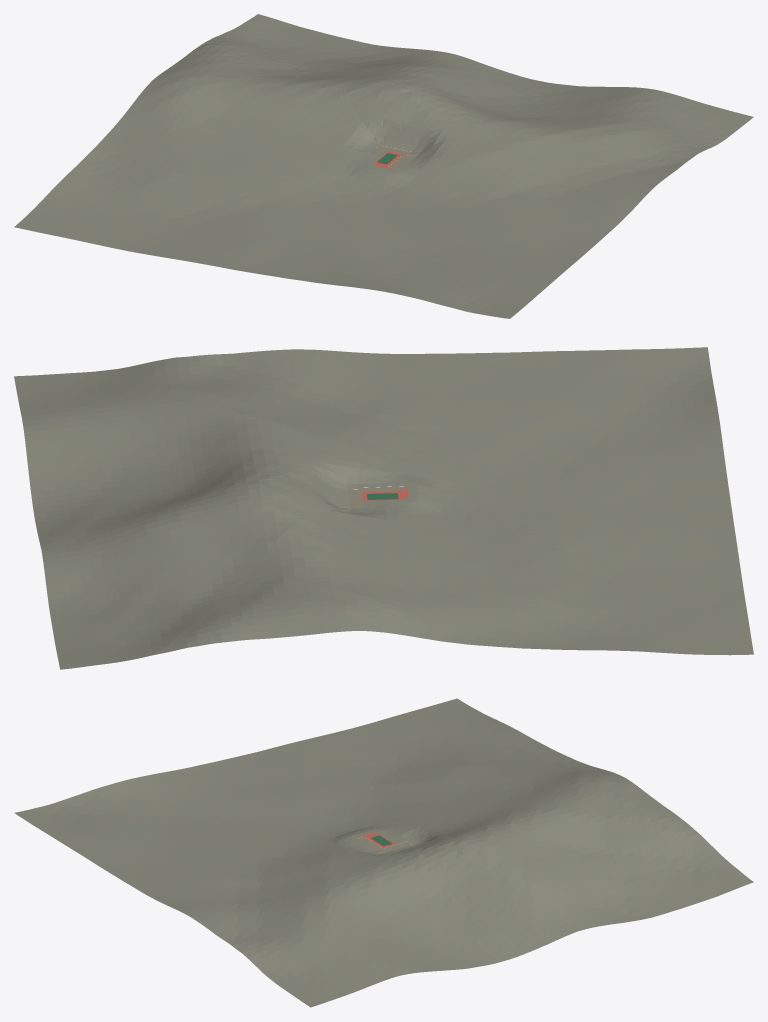
The picture shows the model from 3 angles, top to bottom: view 1: azimuth 30°, elevation 25°; view 2: azimuth 150°, elevation 25°; view 3: azimuth 270°, elevation 25°; orthographic projection. The views are drawn at different scales.
Visible parts, largest first — view 1: ground_context-estimated; view 2: ground_context-estimated; view 3: ground_context-estimated.
Part boxes in pixels (x1,y1,x2,y2): ground_context-estimated: (14, 14, 753, 318); ground_context-estimated: (14, 347, 753, 669); ground_context-estimated: (14, 698, 753, 1007).
Size of the model in its own units: 999 by 67.12 by 999.
4 materials, 3 textured.
